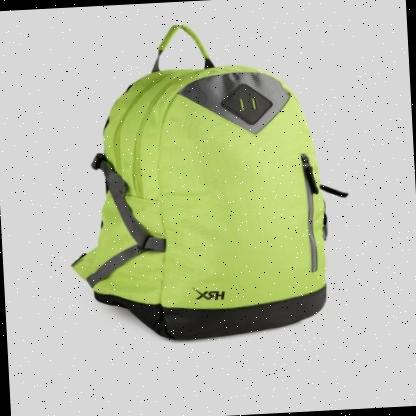bag: (56, 9, 354, 350)
